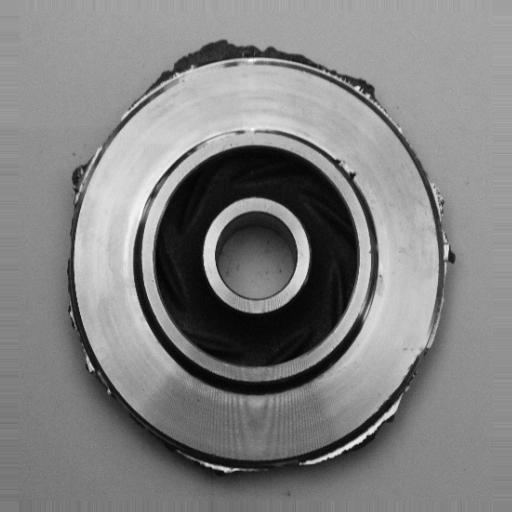casting_with_burr: (59, 35, 455, 479)
crack: (328, 145, 370, 184)
scratch: (192, 123, 268, 148)
